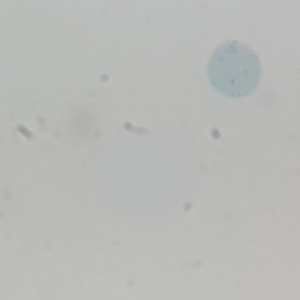punctate reticulocyte: (204, 38, 263, 99)
